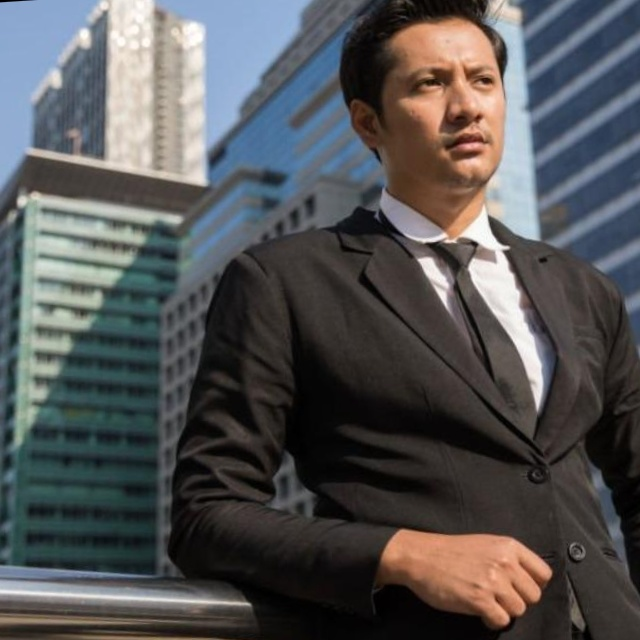Sin_Casco_Mascarrilla: (334, 0, 517, 200)
Sin_Chaleco: (225, 194, 640, 640)
